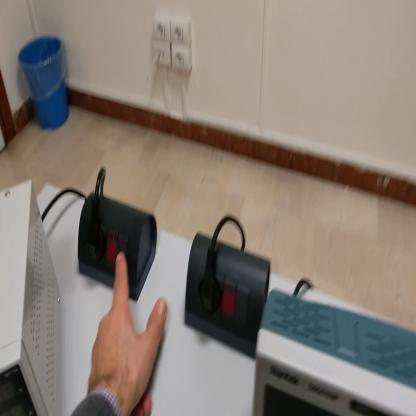hand: (87, 249, 171, 416)
oscilloscope: (254, 283, 416, 415)
power supply: (2, 174, 63, 415)
socket: (185, 230, 274, 363), (78, 194, 157, 307)
